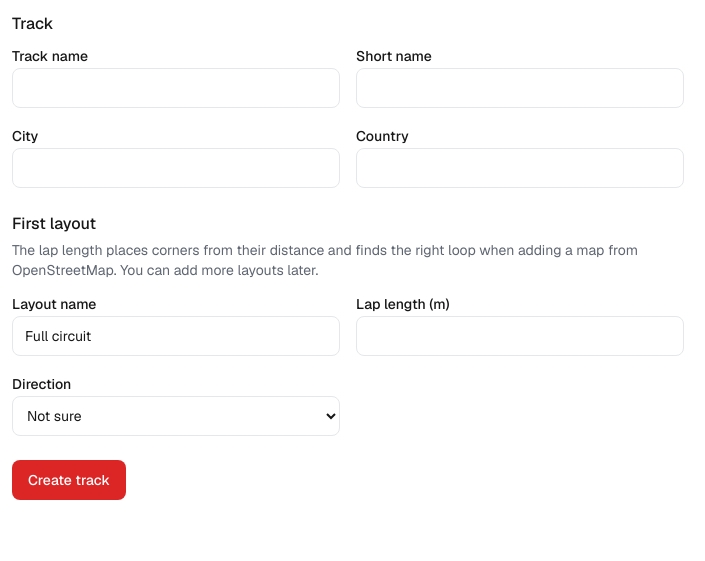
Test: NewTrackForm › needs a name and a positive lap length
The width and height of the screenshot is (705, 561).
Type "-5" into the field labelled "Lap length (m)". click: coordinates (520, 336)
box: top-left (356, 316), bottom-right (684, 356)
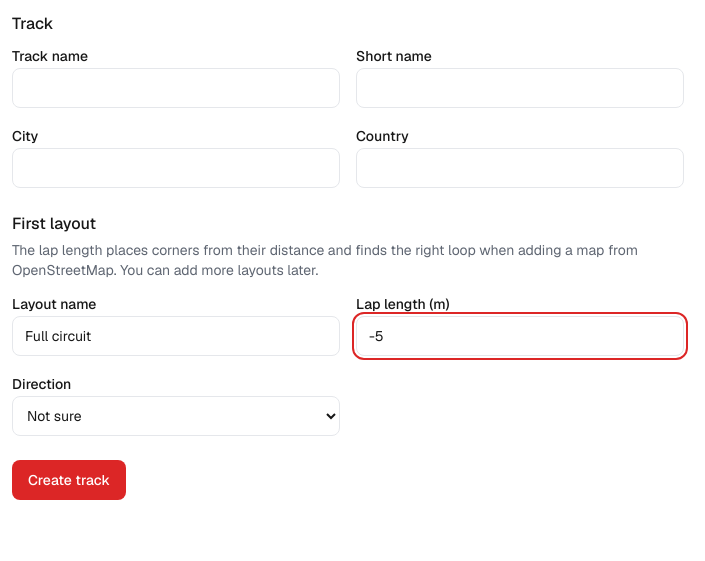
Click the button "Create track". click: coordinates (69, 480)
box: top-left (12, 460), bottom-right (126, 500)
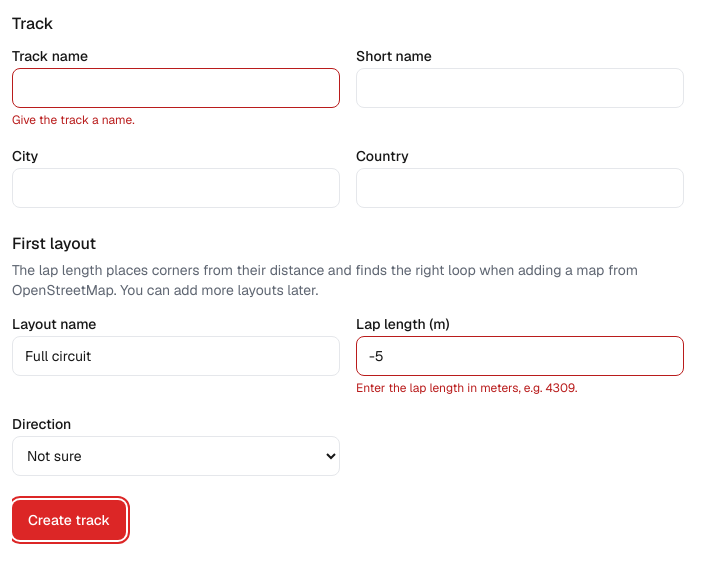
Check: the text "Give the track a name." is shown, box top-left (12, 112), bottom-right (135, 128)
Check: the text "Enter the lap length in meters, e.g. 4309." is shown, box top-left (356, 380), bottom-right (578, 396)
